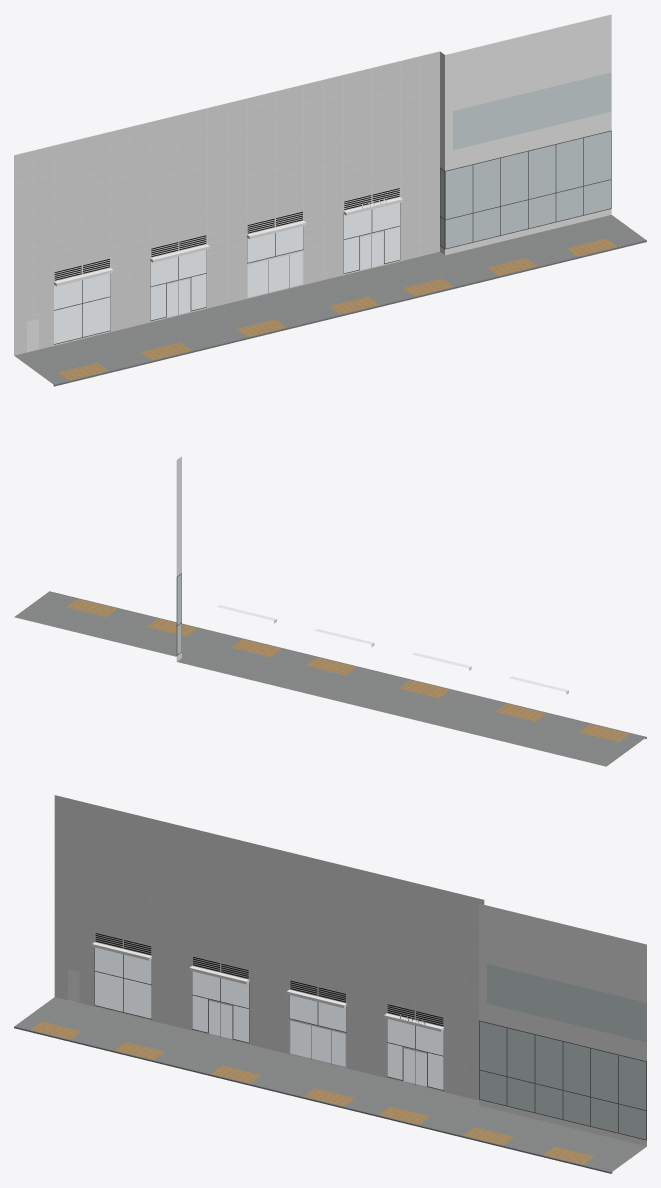
Rendered from exterior.glb.
The picture shows the model from 3 angles, top to bottom: view 1: azimuth 30°, elevation 25°; view 2: azimuth 150°, elevation 25°; view 3: azimuth 330°, elevation 25°; orthographic projection.
Bounding box in the file's own units: 45.36 × 14.76 × 5.35.
12 materials, 3 textured.
